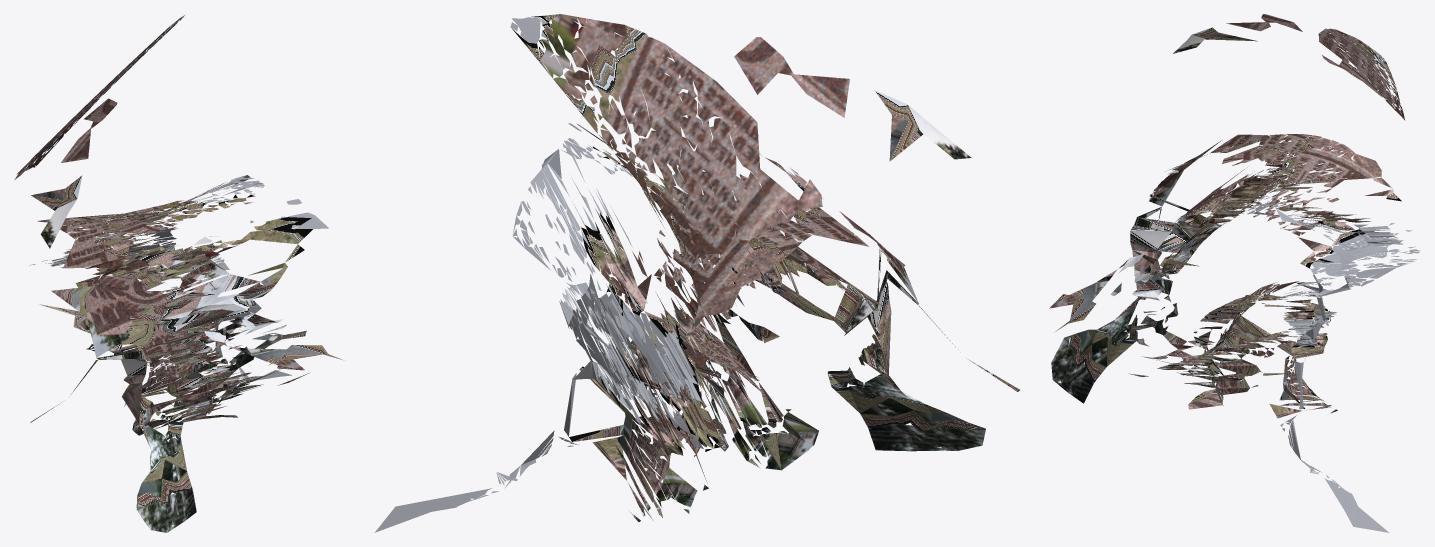
Rendered from graveyard_mesh.obj.
The picture shows the model from 3 angles, left to right: view 1: azimuth 30°, elevation 25°; view 2: azimuth 150°, elevation 25°; view 3: azimuth 270°, elevation 25°; orthographic projection. The views are drawn at different scales.
Bounding box in the file's own units: 16.46 × 17.18 × 13.48.
1 material, 1 textured.
